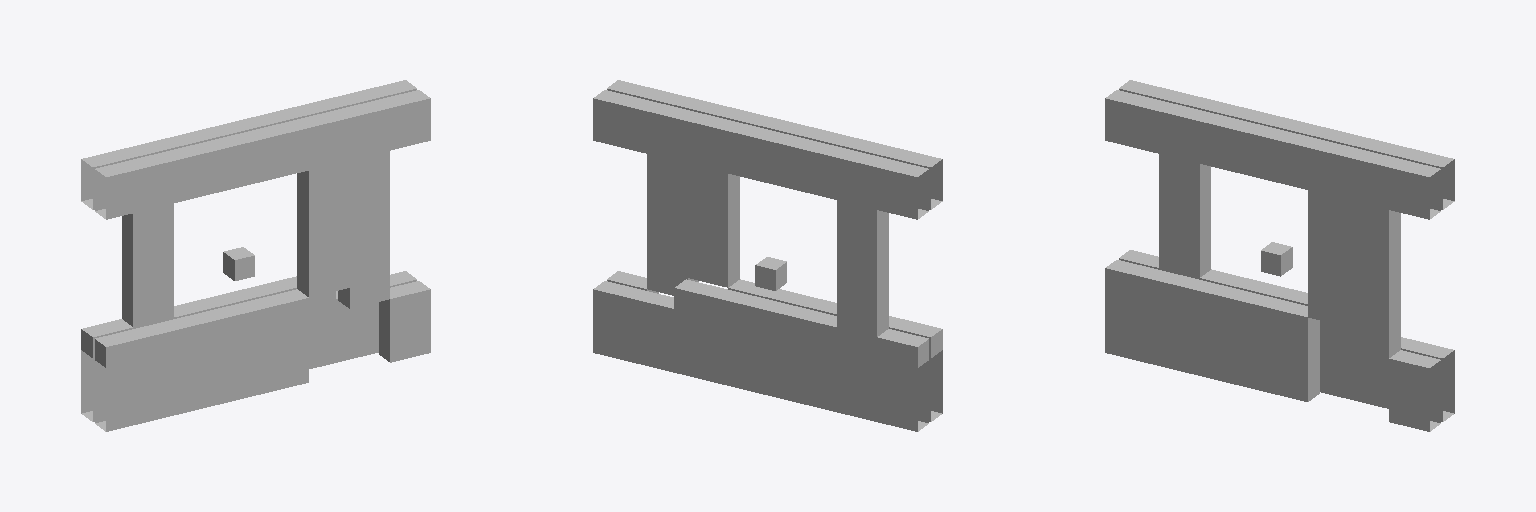
The model's file is Colby5NoMat.obj.
3 views of the same model, side by side, from view 1: azimuth 30°, elevation 25°; view 2: azimuth 150°, elevation 25°; view 3: azimuth 330°, elevation 25° (orthographic).
Visible parts, largest first — view 1: Plane.001, Plane.001_Plane.000; view 2: Plane.001_Plane.000, Plane.001; view 3: Plane.001, Plane.001_Plane.000.
Boxes of the visible parts, <box> form: Plane.001: <box>95,90,430,431</box>; Plane.001_Plane.000: <box>81,80,416,421</box>; Plane.001_Plane.000: <box>593,90,928,431</box>; Plane.001: <box>607,80,942,421</box>; Plane.001: <box>1105,90,1440,431</box>; Plane.001_Plane.000: <box>1119,80,1454,421</box>.
Size of the model in its own units: 16 by 12 by 2.15.